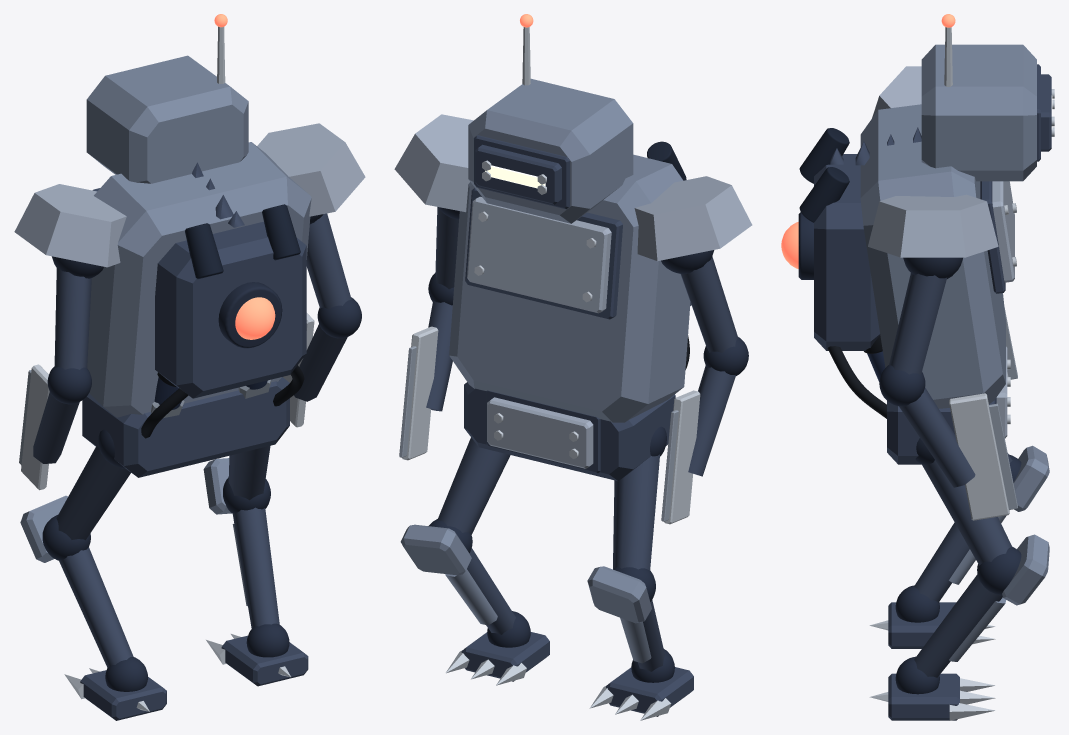
File: enemy_drifter.glb
The picture shows the model from 3 angles, left to right: view 1: azimuth 30°, elevation 25°; view 2: azimuth 150°, elevation 25°; view 3: azimuth 270°, elevation 25°; orthographic projection. The views are drawn at different scales.
Parts seen in each view (by area): view 1: drifter_torso, drifter_pack, drifter_head, drifter_pelvis, drifter_pauldron_l, drifter_pauldron_r, drifter_leg_l_shin, drifter_leg_r_shin, drifter_leg_l_thigh, drifter_upper_arm_l, drifter_upper_arm_r, drifter_leg_l_sole (+21 smaller); view 2: drifter_torso, drifter_head, drifter_chest_upper_face, drifter_pauldron_l, drifter_pauldron_r, drifter_pelvis, drifter_pelvis_plate_face, drifter_leg_l_thigh, drifter_leg_r_thigh, drifter_upper_arm_l, drifter_visor_face, drifter_blade_r (+23 smaller); view 3: drifter_torso, drifter_head, drifter_pack, drifter_pauldron_r, drifter_blade_r, drifter_upper_arm_r, drifter_leg_r_shin, drifter_leg_r_thigh, drifter_forearm_r, drifter_leg_r_sole, drifter_leg_l_shin, drifter_leg_r_knee_cap (+24 smaller).
Part boxes in pixels (left/top/right/bottom): drifter_torso: left=87, top=142, right=311, bottom=417; drifter_pack: left=155, top=221, right=306, bottom=398; drifter_head: left=86, top=55, right=248, bottom=183; drifter_pelvis: left=82, top=377, right=289, bottom=477; drifter_pauldron_l: left=14, top=184, right=126, bottom=267; drifter_pauldron_r: left=257, top=123, right=365, bottom=216; drifter_leg_l_shin: left=58, top=547, right=133, bottom=667; drifter_leg_r_shin: left=232, top=507, right=279, bottom=628; drifter_leg_l_thigh: left=56, top=446, right=130, bottom=540; drifter_upper_arm_l: left=54, top=267, right=91, bottom=369; drifter_upper_arm_r: left=306, top=213, right=351, bottom=309; drifter_leg_l_sole: left=80, top=670, right=166, bottom=720; drifter_torso: left=449, top=154, right=690, bottom=422; drifter_head: left=468, top=78, right=633, bottom=223; drifter_chest_upper_face: left=467, top=196, right=611, bottom=313; drifter_pauldron_l: left=634, top=176, right=752, bottom=261; drifter_pauldron_r: left=394, top=114, right=473, bottom=212; drifter_pelvis: left=464, top=382, right=675, bottom=481; drifter_pelvis_plate_face: left=487, top=397, right=593, bottom=468; drifter_leg_l_thigh: left=613, top=454, right=659, bottom=570; drifter_leg_r_thigh: left=437, top=437, right=510, bottom=535; drifter_upper_arm_l: left=680, top=256, right=738, bottom=352; drifter_visor_face: left=475, top=144, right=561, bottom=204; drifter_blade_r: left=402, top=326, right=438, bottom=460; drifter_torso: left=860, top=104, right=1005, bottom=408; drifter_head: left=921, top=44, right=1036, bottom=181; drifter_pack: left=814, top=154, right=880, bottom=350; drifter_pauldron_r: left=868, top=194, right=998, bottom=257; drifter_blade_r: left=949, top=393, right=1009, bottom=520; drifter_upper_arm_r: left=889, top=273, right=946, bottom=374; drifter_leg_r_shin: left=914, top=574, right=1002, bottom=677; drifter_leg_r_thigh: left=921, top=460, right=1012, bottom=565; drifter_forearm_r: left=899, top=387, right=975, bottom=487; drifter_leg_r_sole: left=888, top=673, right=959, bottom=720; drifter_leg_l_shin: left=914, top=522, right=969, bottom=602; drifter_leg_r_knee_cap: left=1002, top=534, right=1049, bottom=605.
Bounding box in the file's own units: 0.8754 × 1.71 × 0.6257.
